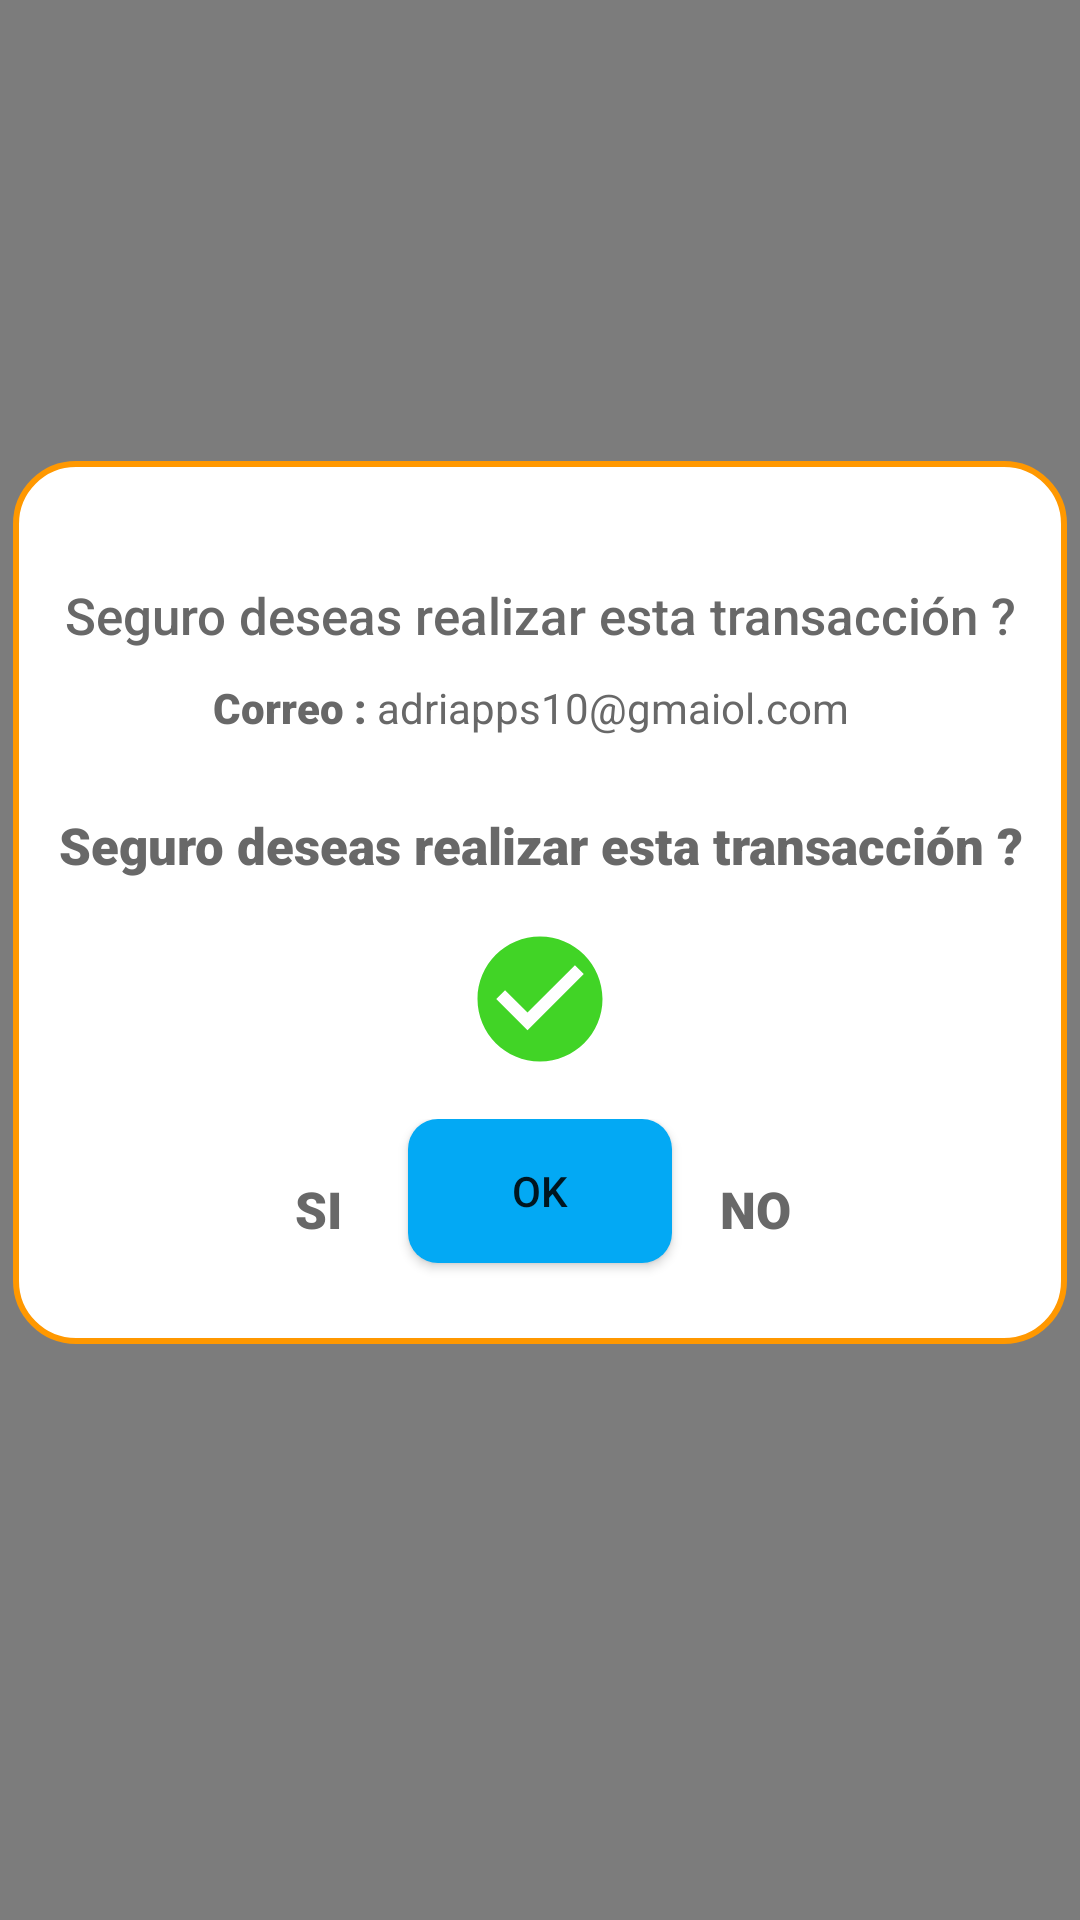

Icons on this 1080w x 1920h Android screen, each with its box as detection(x1, y1, x2, y2):
checkimg: detection(477, 936, 603, 1062)
